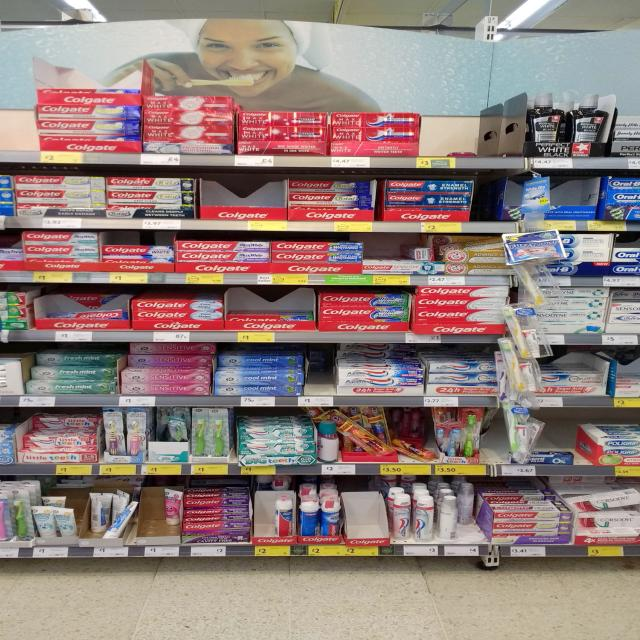empty_space: (427, 109, 482, 151)
